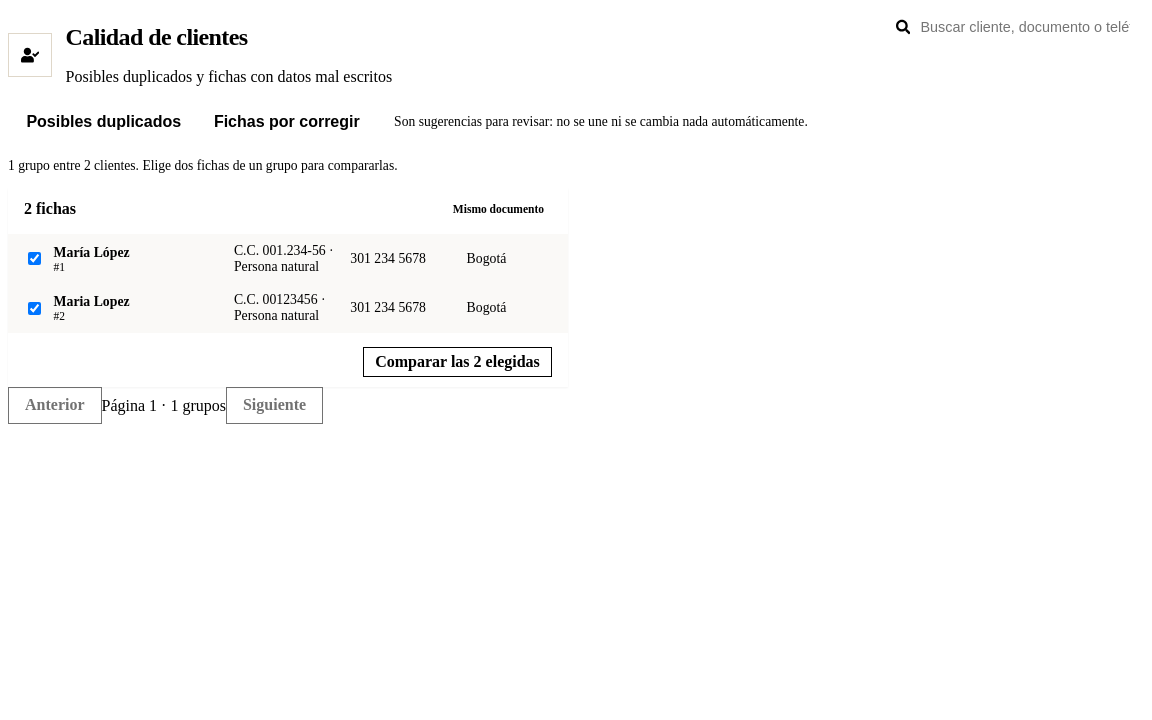
Calidad de clientes (pestaña de Bases de datos) › un conflicto permite recargar la ficha y borra la selección
Click the tab "Fichas por corregir" at (287, 122), box 200,106 -> 374,138
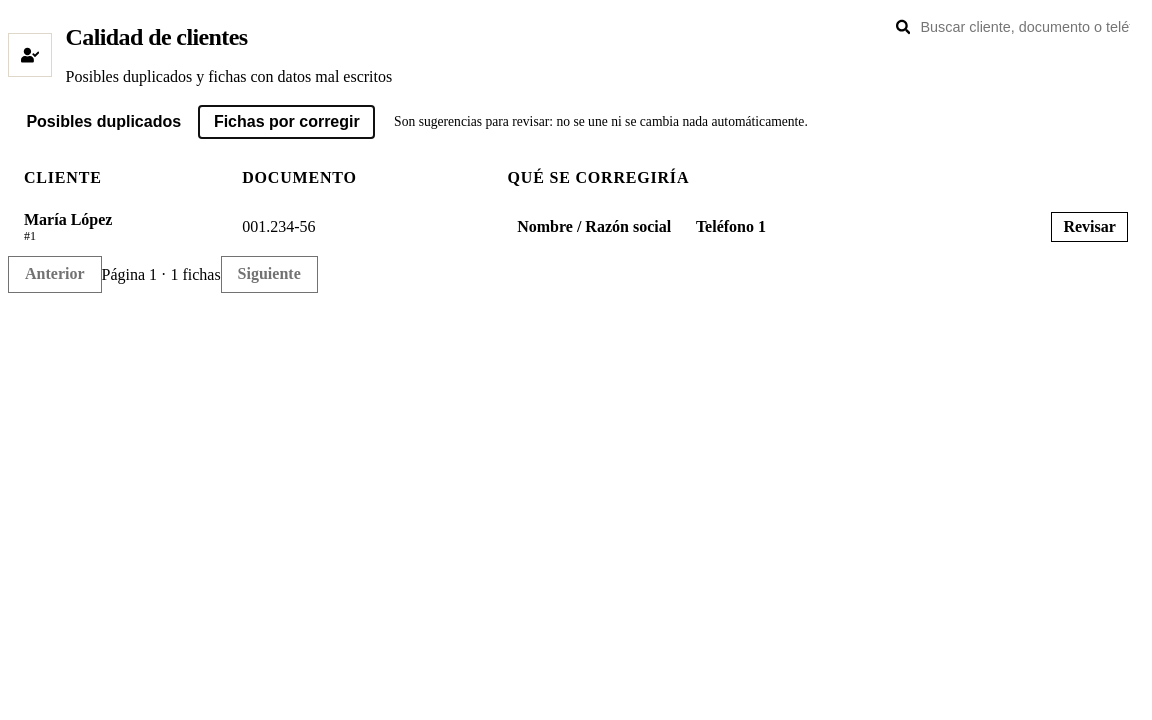
Click the button with aria-label "Revisar cliente 1" at (1090, 227), box 1051,212 -> 1128,242
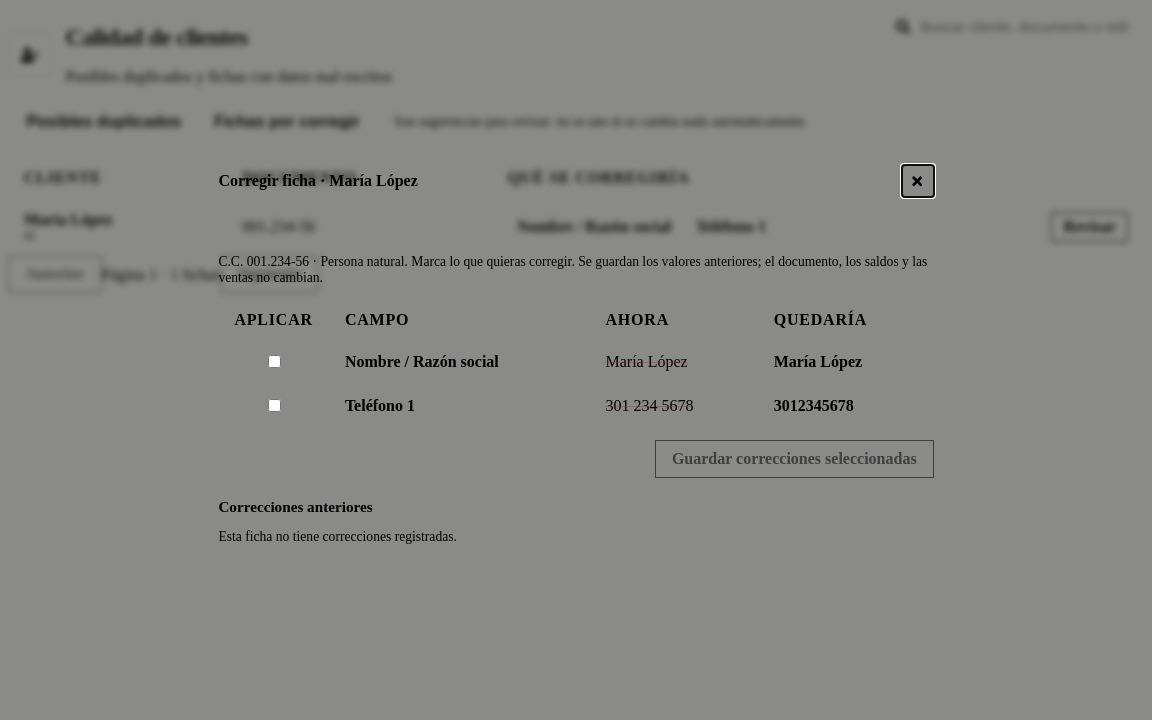
Now the checkbox named "Corregir Teléfono 1" is shown
Click the checkbox named "Corregir Teléfono 1" at (274, 406), box 268,400 -> 281,412
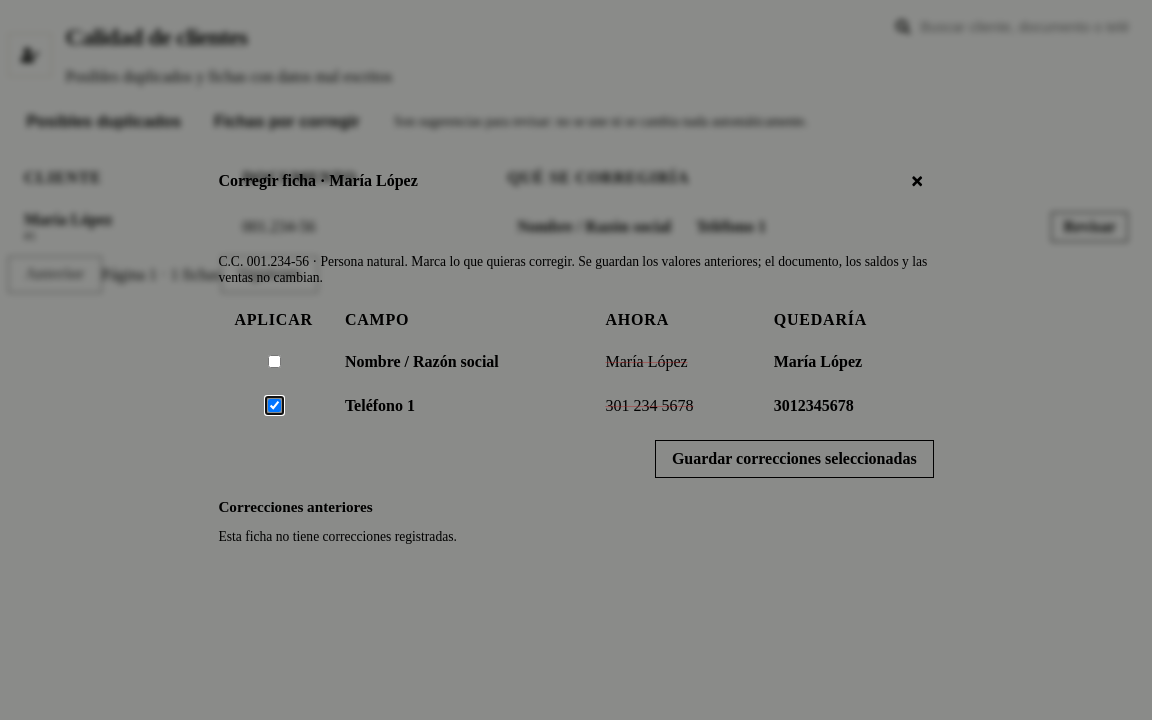
Click the button "Guardar correcciones seleccionadas" at (794, 459), box 655,440 -> 934,478
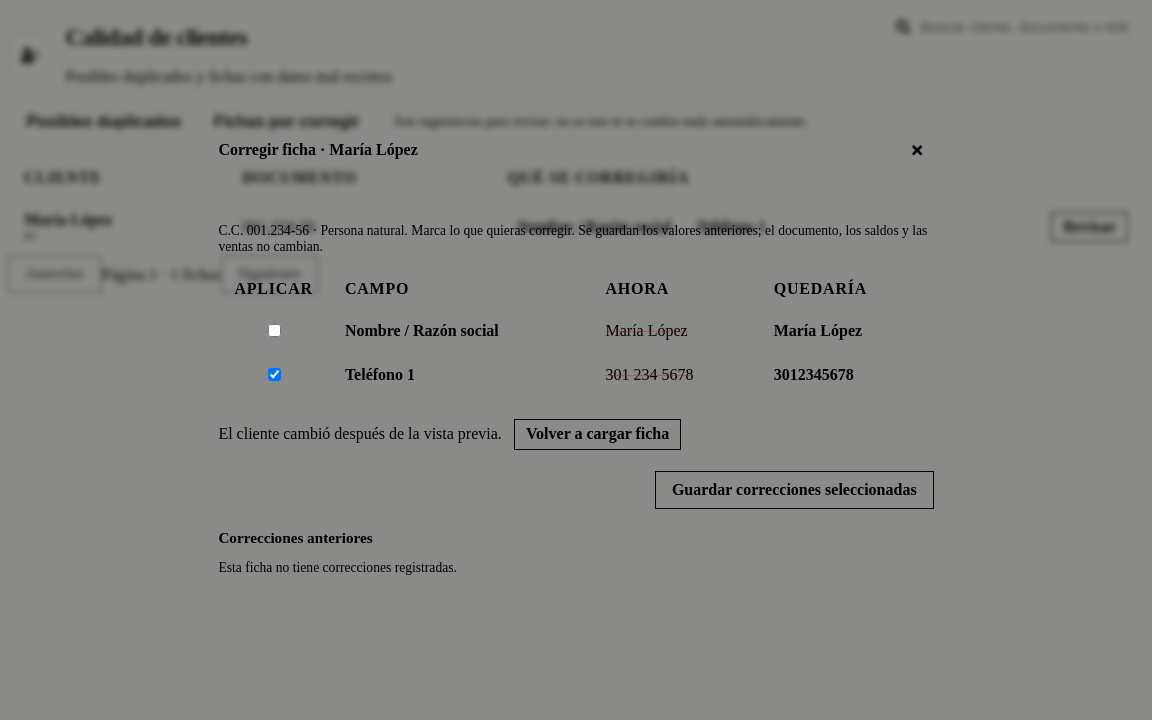
Now the message shows "El cliente cambió", box 218,426 -> 502,442
Click the button "Volver a cargar ficha" at (598, 434), box 514,419 -> 681,450
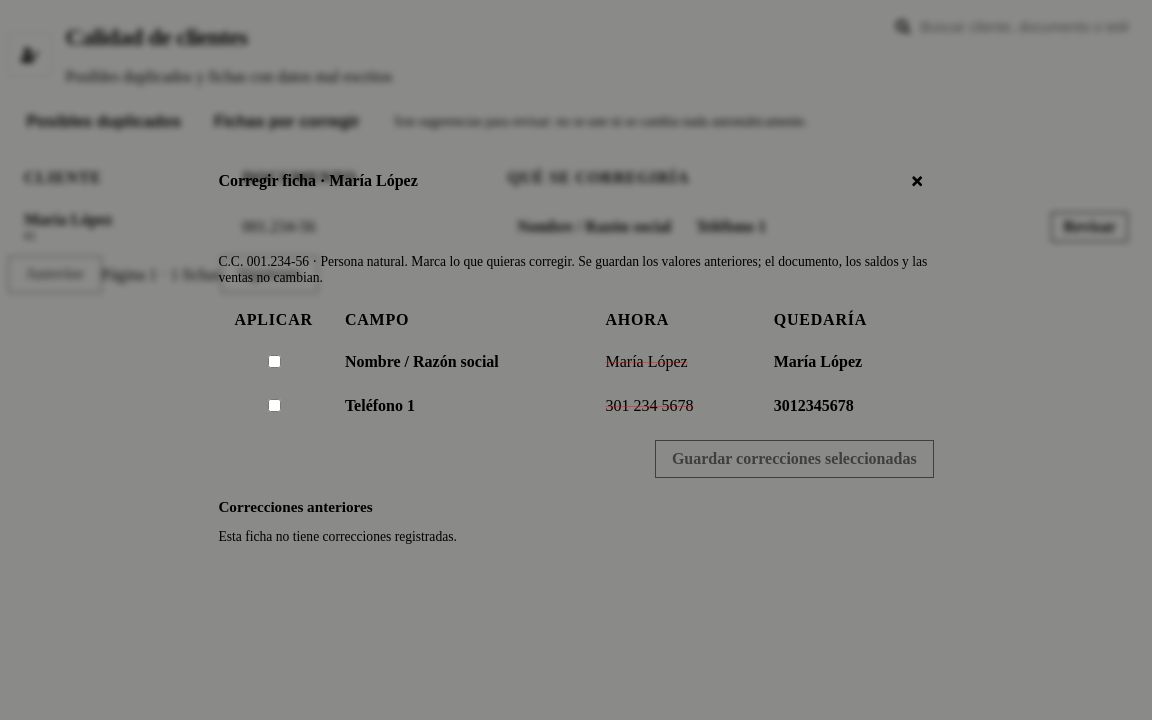
Now the checkbox named "Corregir Teléfono 1" is not checked, box 268,400 -> 281,412
